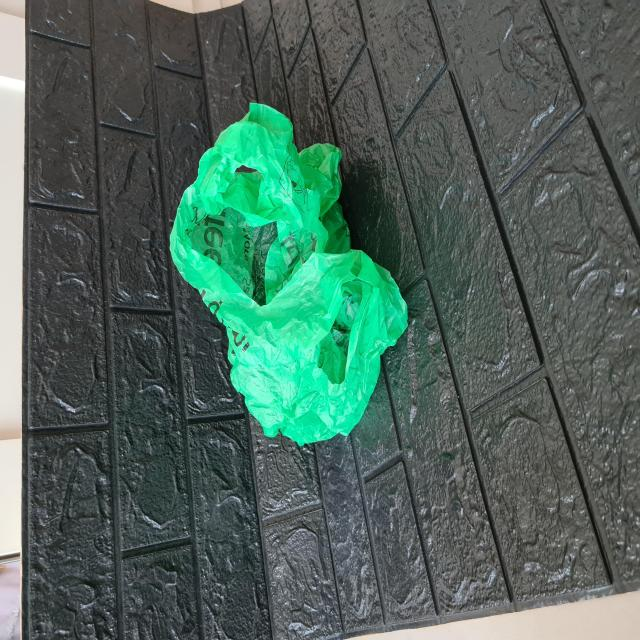plastic bag: (168, 99, 412, 448)
